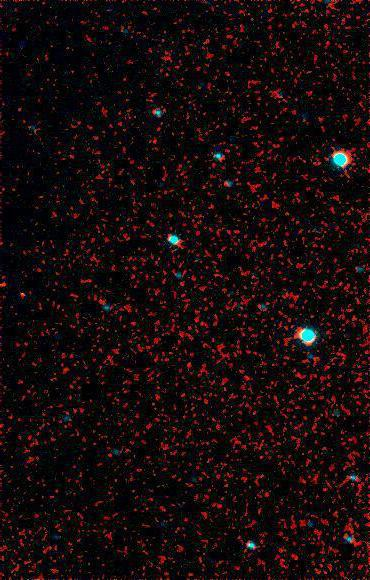star: (0, 263, 23, 293)
